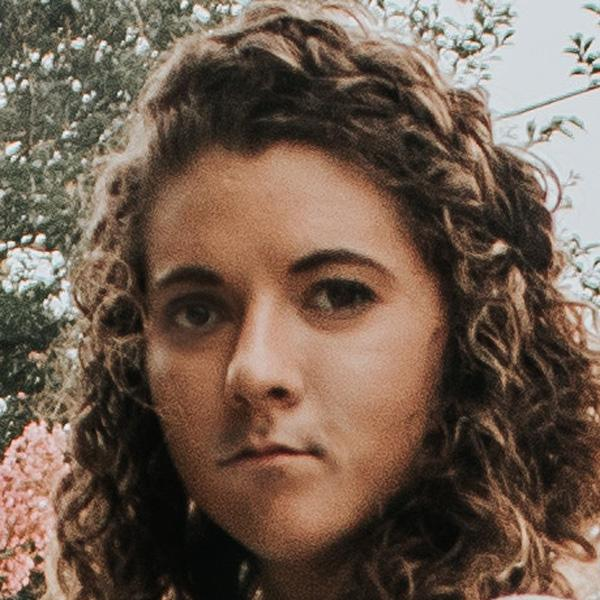Eyes: (288, 266, 394, 332), (152, 281, 238, 349)
